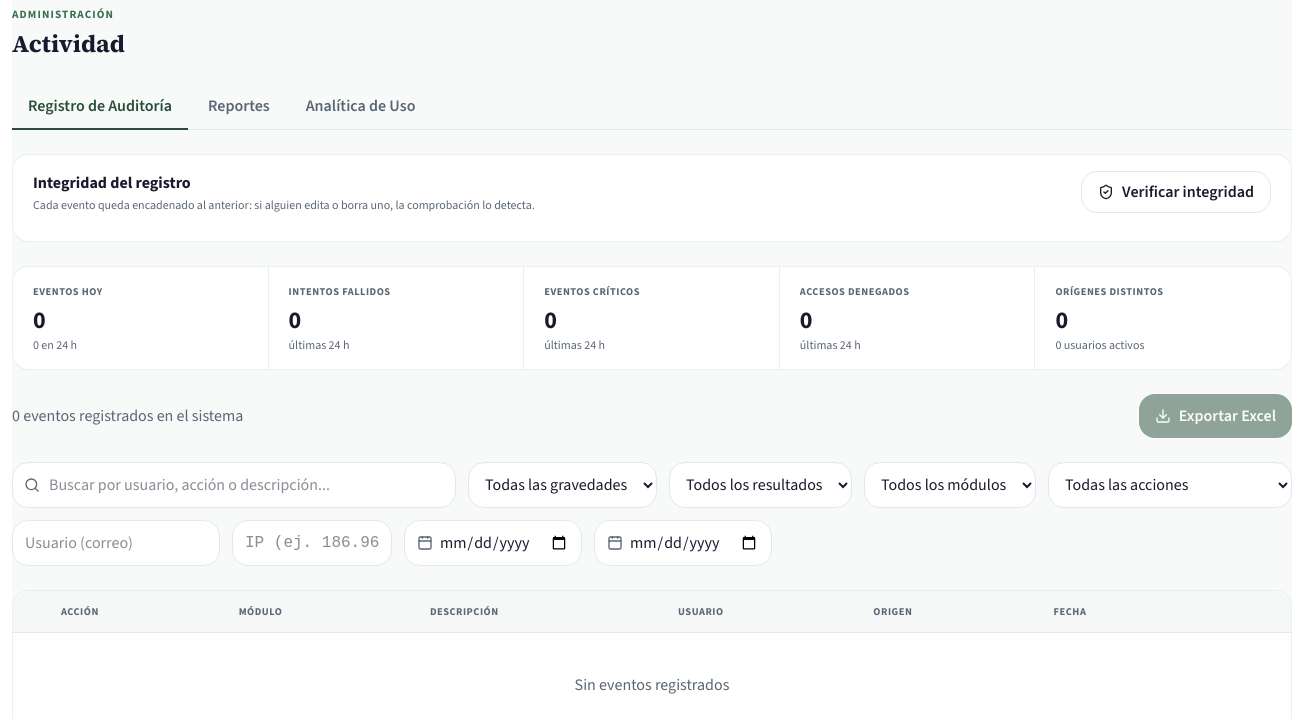
Test: Actividad — pestañas (super_admin ve las 3) › cambiar a Reportes muestra el reporte por período
Click the button "Reportes" at (239, 107), box [192,84,286,130]
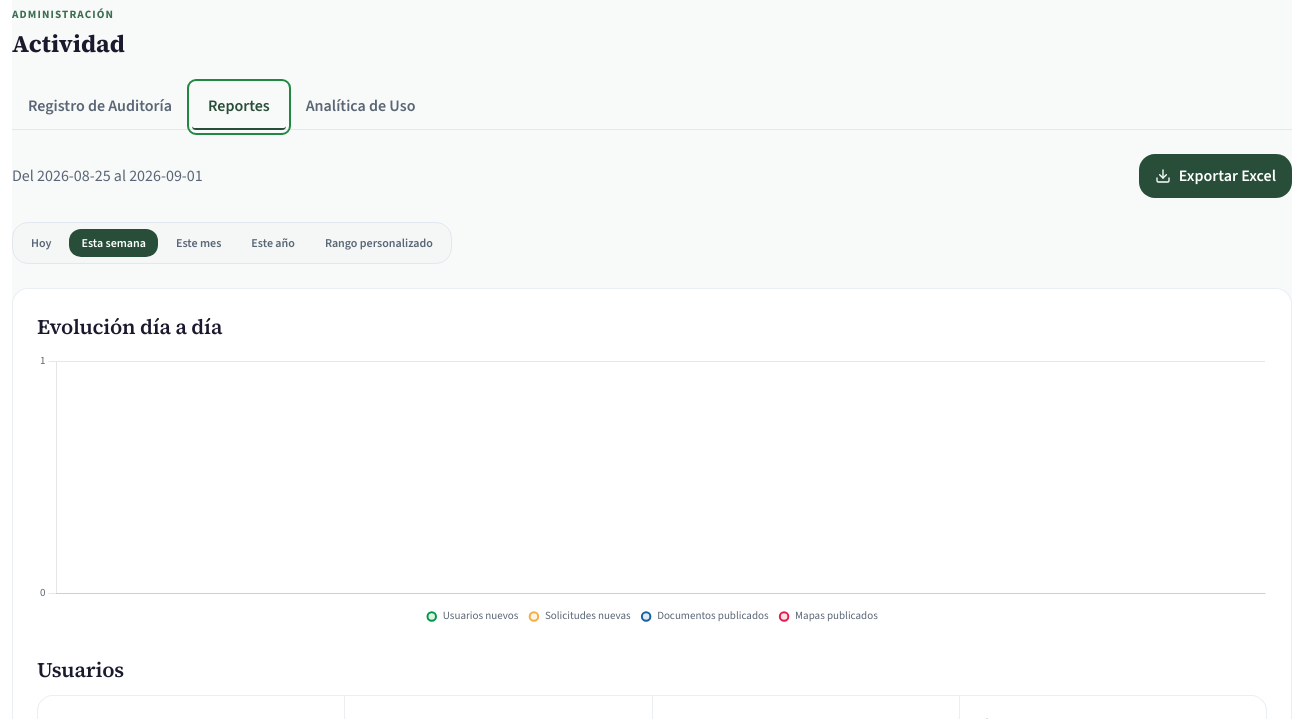
Expected: the text "Del 2026-08-25 al 2026-09-01" is shown, [12,164,203,188]
